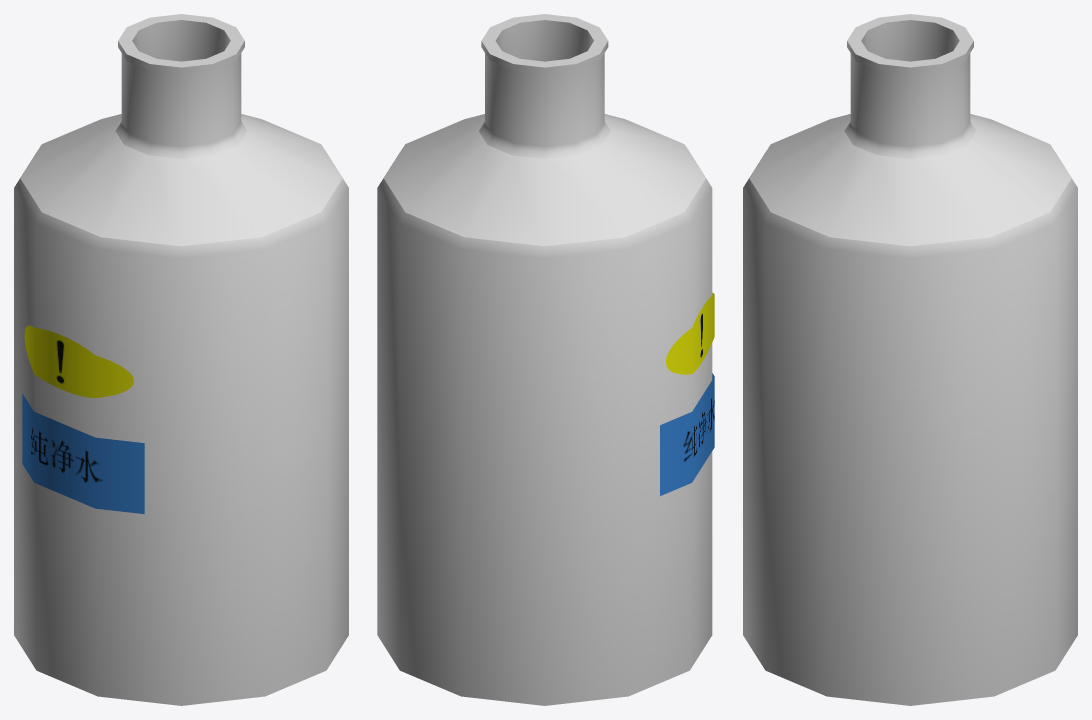
Rendered from SM_纯净水.fbx.
3 renders of one model, left to right at view 1: azimuth 30°, elevation 25°; view 2: azimuth 150°, elevation 25°; view 3: azimuth 270°, elevation 25°, orthographic.
Visible parts, largest first — view 1: SM_纯净水; view 2: SM_纯净水; view 3: SM_纯净水.
Part boxes in pixels (<box>): SM_纯净水: <box>14,14,348,705</box>; SM_纯净水: <box>377,14,714,705</box>; SM_纯净水: <box>743,14,1077,705</box>.
Size of the model in its own units: 0.1325 by 0.2575 by 0.1315.
